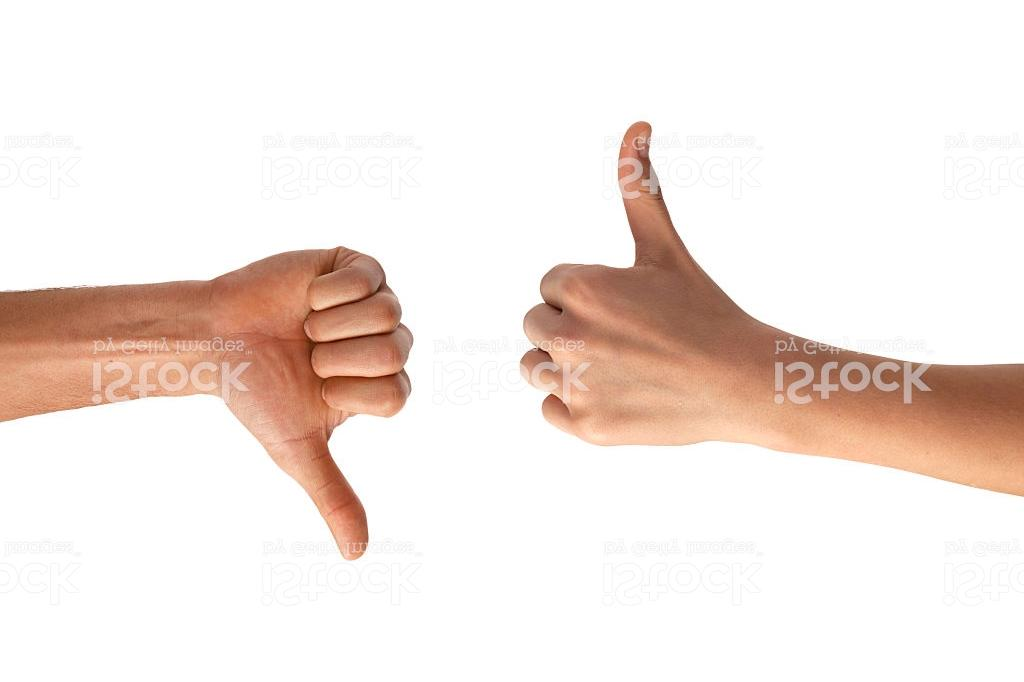thumbsdown: (214, 246, 416, 565)
